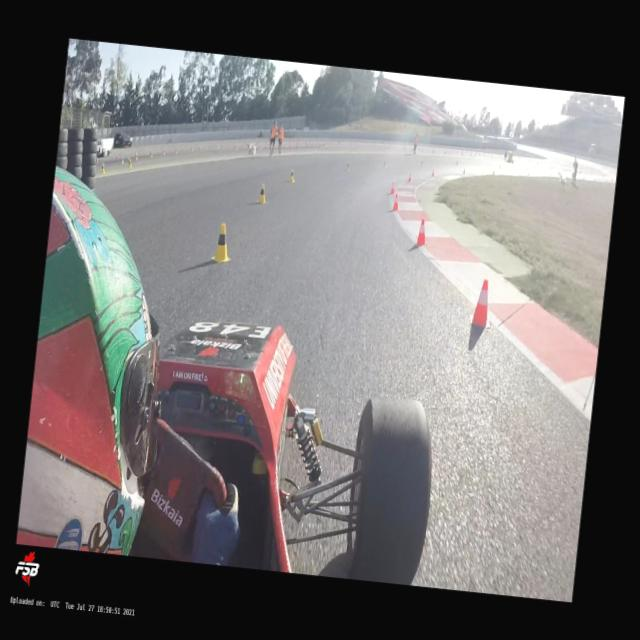orange_cone: (469, 278, 494, 328), (415, 217, 429, 244), (390, 194, 400, 212), (390, 182, 396, 194), (408, 172, 412, 181), (431, 170, 434, 176), (115, 152, 118, 158), (134, 150, 137, 156)
yellow_cone: (210, 222, 234, 264), (256, 183, 268, 203), (288, 168, 296, 182), (100, 163, 106, 174), (127, 159, 132, 168), (120, 157, 124, 165), (149, 152, 153, 158), (382, 162, 386, 168), (135, 154, 138, 160), (346, 163, 348, 170)
